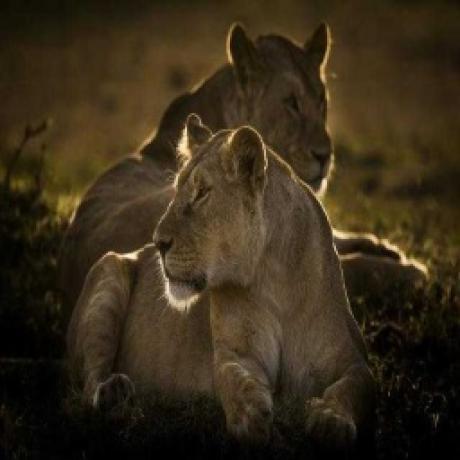Lion: (59, 114, 382, 438), (66, 12, 422, 292)
